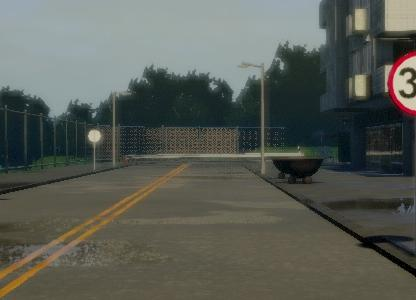Speed_30: (387, 50, 416, 115)
